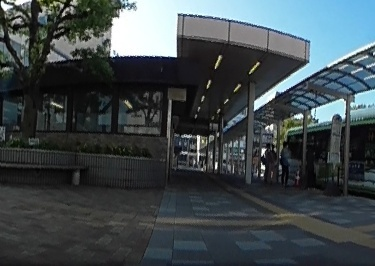person: (262, 142, 274, 179), (280, 140, 290, 182)
